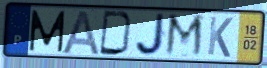A: (58, 9, 102, 57)
D: (98, 9, 135, 58)
J: (134, 12, 168, 58)
K: (206, 15, 234, 59)
M: (163, 12, 206, 59), (28, 9, 67, 54)
